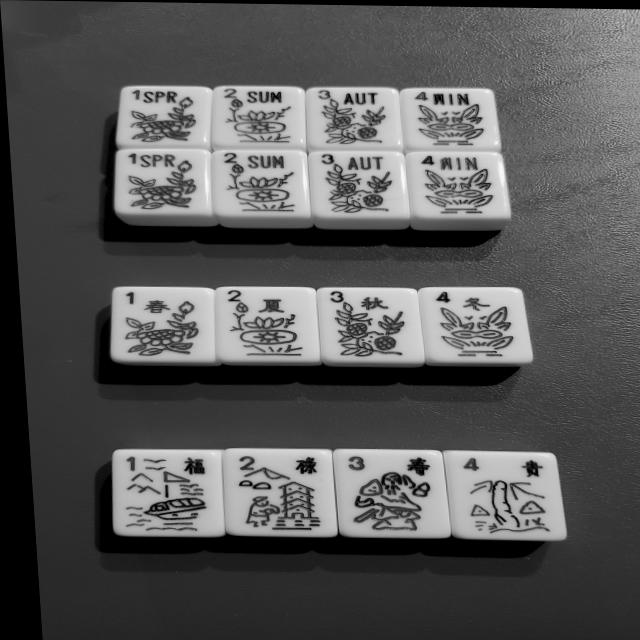ff1: (113, 287, 217, 358)
ff2: (212, 289, 321, 362)
ff3: (317, 289, 422, 361)
ff4: (423, 288, 525, 362)
